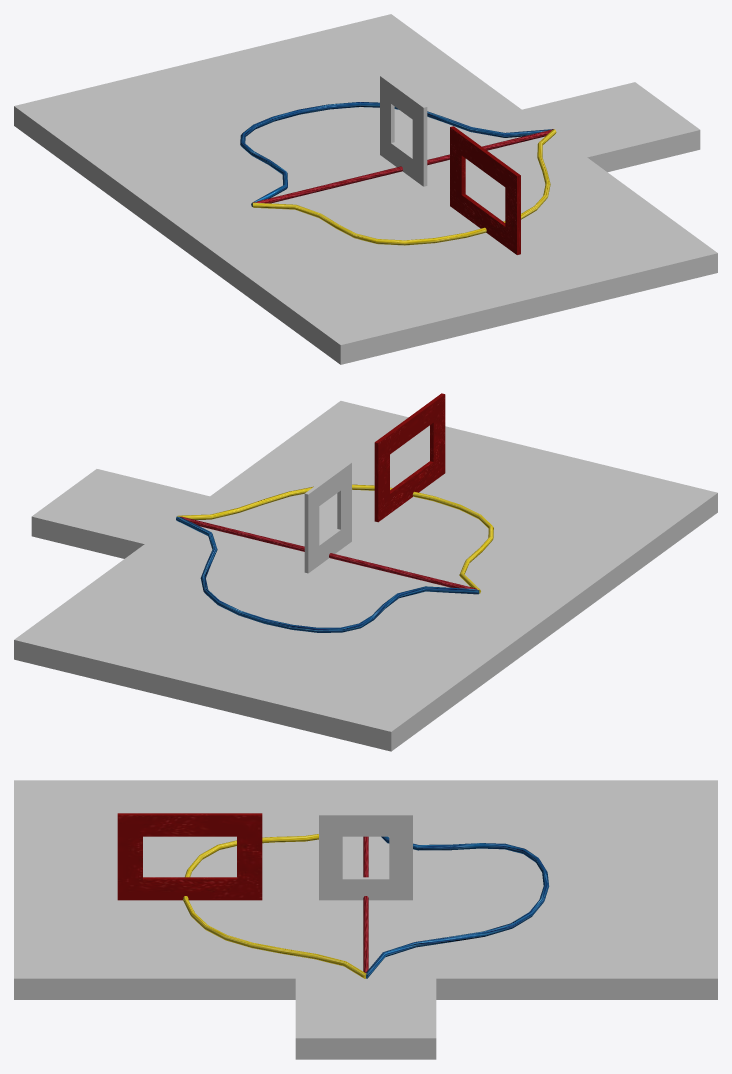
Rendered from indoor_arena.dae.
3 renders of one model, top to bottom at view 1: azimuth 30°, elevation 25°; view 2: azimuth 150°, elevation 25°; view 3: azimuth 270°, elevation 25°, orthographic. The views are drawn at different scales.
Parts seen in each view (by area): view 1: Cube, Cube.002, Cube.001, Cube.003, Cube.004, NurbsPath, NurbsPath.001, BezierCurve; view 2: Cube, Cube.002, Cube.001, Cube.003, Cube.004, NurbsPath, NurbsPath.001, BezierCurve; view 3: Cube, Cube.002, Cube.001, Cube.003, Cube.004, NurbsPath, NurbsPath.001, BezierCurve.
Part boxes in pixels (bbox=[...]): Cube: bbox=[90, 14, 717, 346]; Cube.002: bbox=[14, 87, 416, 364]; Cube.001: bbox=[522, 82, 700, 172]; Cube.003: bbox=[450, 126, 520, 254]; Cube.004: bbox=[380, 75, 427, 186]; NurbsPath: bbox=[240, 102, 552, 206]; NurbsPath.001: bbox=[252, 129, 556, 245]; BezierCurve: bbox=[253, 129, 553, 203]; Cube: bbox=[14, 401, 641, 732]; Cube.002: bbox=[315, 474, 717, 751]; Cube.001: bbox=[31, 469, 209, 558]; Cube.003: bbox=[374, 393, 445, 522]; Cube.004: bbox=[304, 461, 351, 573]; NurbsPath: bbox=[176, 516, 479, 632]; NurbsPath.001: bbox=[177, 484, 493, 593]; BezierCurve: bbox=[179, 516, 478, 590]; Cube: bbox=[14, 820, 717, 999]; Cube.002: bbox=[14, 780, 717, 819]; Cube.001: bbox=[295, 978, 436, 1059]; Cube.003: bbox=[117, 813, 262, 900]; Cube.004: bbox=[319, 813, 412, 900]; NurbsPath: bbox=[366, 836, 549, 978]; NurbsPath.001: bbox=[183, 834, 366, 978]; BezierCurve: bbox=[363, 836, 368, 973].
Bounding box in the file's own units: 13 × 15 × 2.5.
